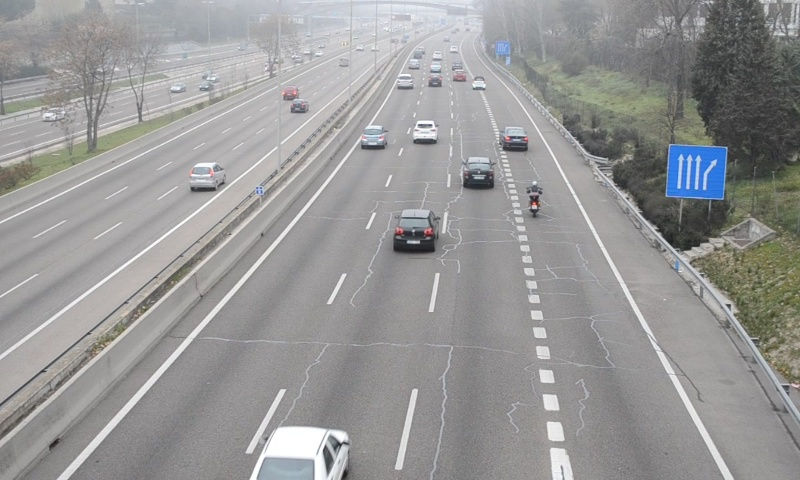car: (250, 426, 350, 480), (393, 208, 436, 248), (463, 158, 495, 188), (499, 125, 528, 150), (360, 125, 387, 148), (413, 120, 439, 142), (396, 72, 413, 88), (472, 75, 486, 91)
motorcycle: (525, 179, 543, 219)
